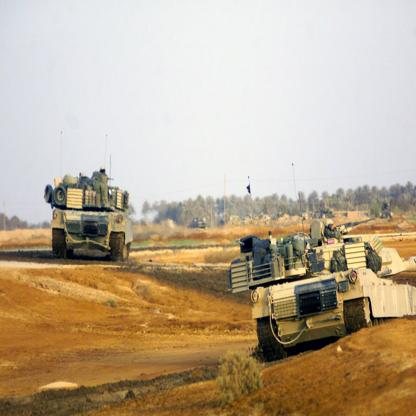Tank: (219, 211, 413, 359), (36, 160, 139, 268)
